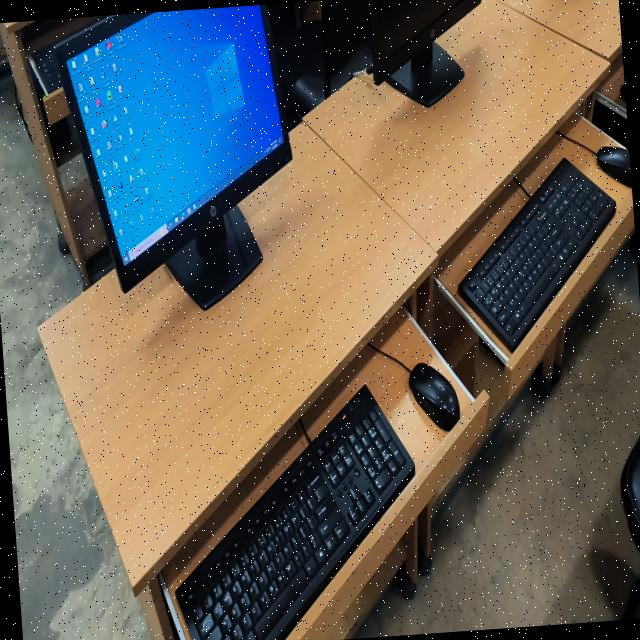Chair: (619, 430, 640, 554), (620, 572, 640, 620)
Keyboard: (176, 385, 413, 640), (457, 157, 614, 350), (26, 43, 61, 94)
Monitor: (54, 3, 290, 291), (369, 0, 479, 105)
Mouse: (407, 362, 458, 429), (595, 145, 631, 186)
